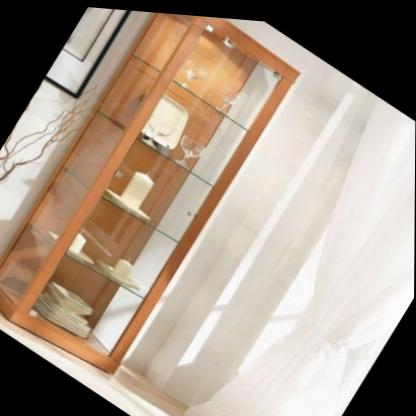Cupboard: (0, 0, 304, 397)
